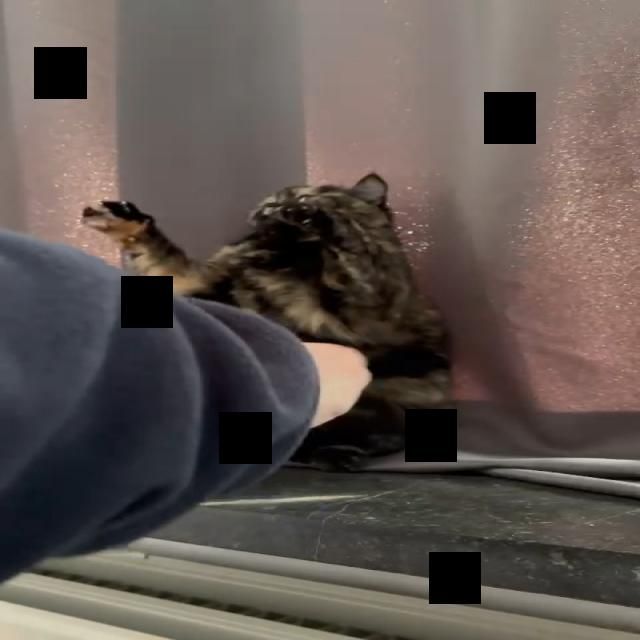authorized: (80, 171, 455, 471), (79, 198, 229, 300)
